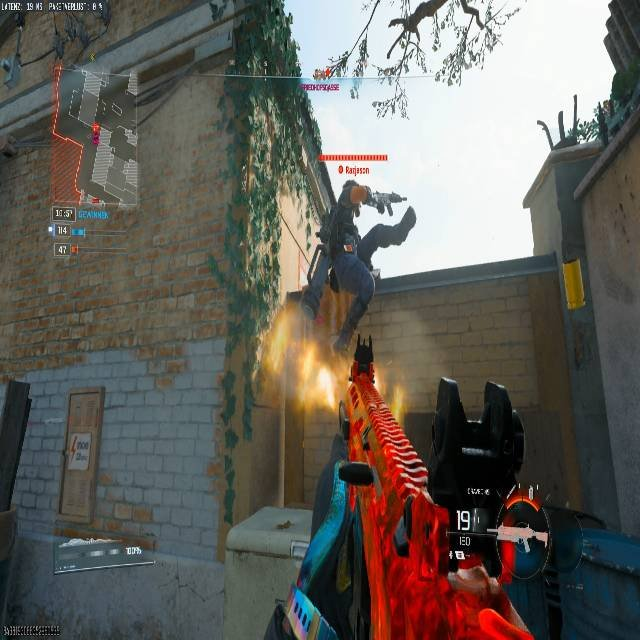head: (340, 180, 370, 211), (343, 178, 357, 190)
player: (308, 179, 413, 364), (330, 178, 416, 280)
